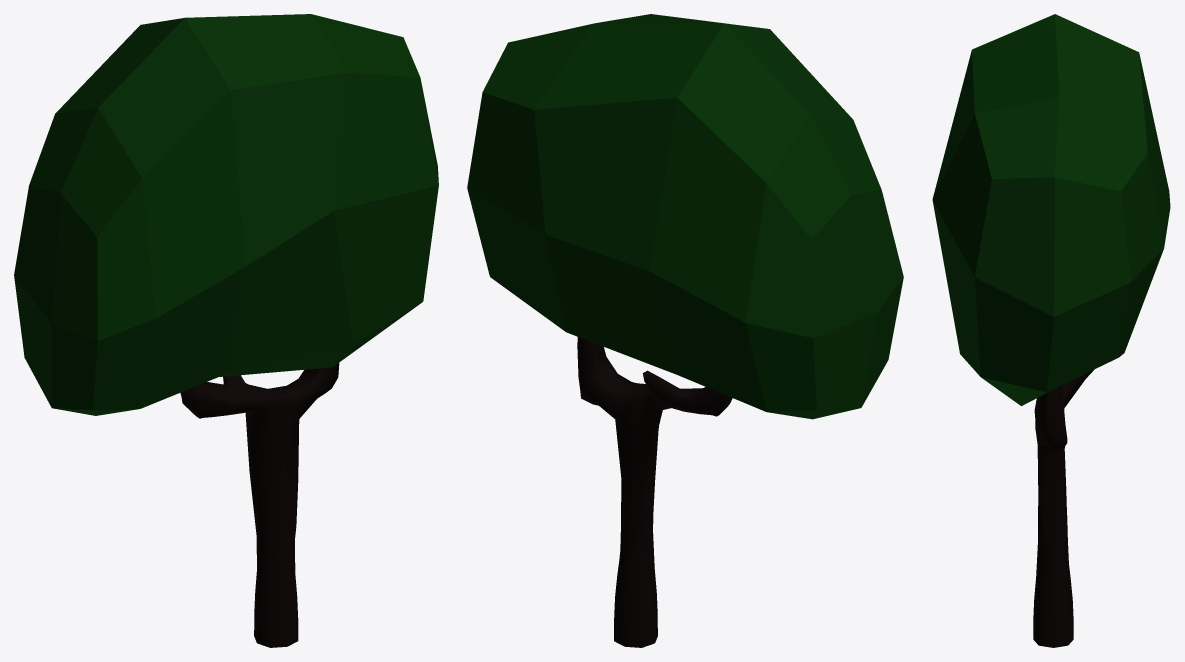
File: AR Tree.obj
The picture shows the model from 3 angles, left to right: view 1: azimuth 30°, elevation 25°; view 2: azimuth 150°, elevation 25°; view 3: azimuth 270°, elevation 25°; orthographic projection. The views are drawn at different scales.
Visible parts, largest first — view 1: Cube_Cube.001; view 2: Cube_Cube.001; view 3: Cube_Cube.001.
Part boxes in pixels (box(x1,y1,x2,y2)): Cube_Cube.001: box(14, 14, 438, 647); Cube_Cube.001: box(467, 14, 903, 647); Cube_Cube.001: box(932, 14, 1170, 647).
Bounding box in the file's own units: 3.76 × 5.84 × 2.15.
